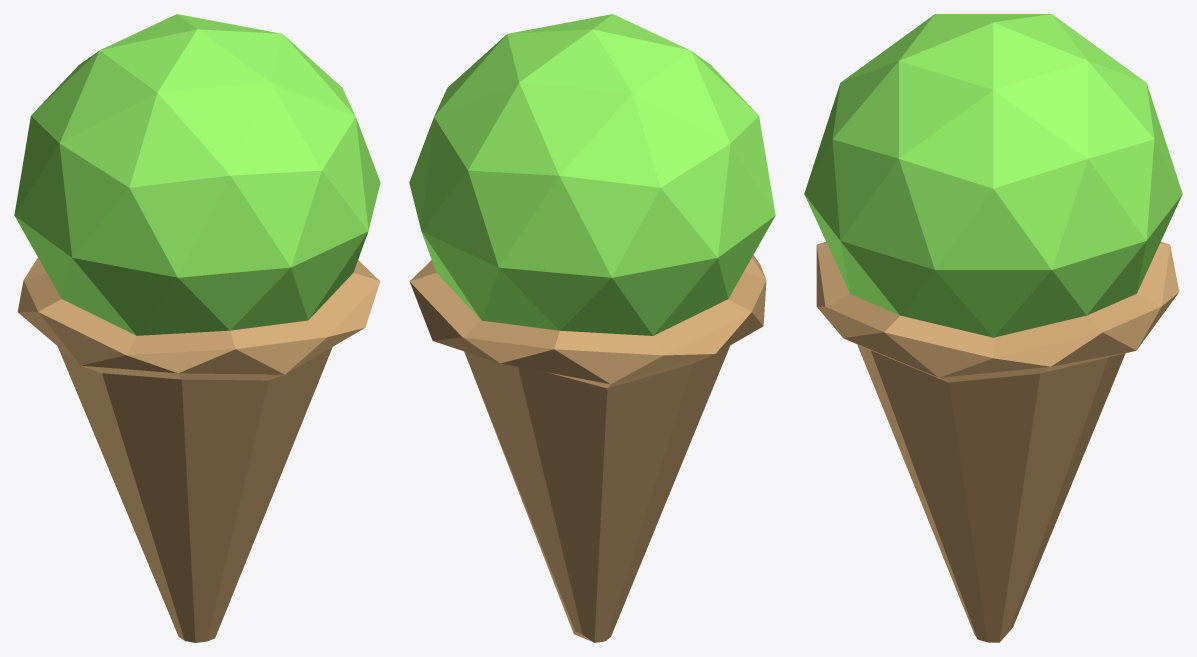
File: ice_melon.fbx
3 views of the same model, side by side, from view 1: azimuth 30°, elevation 25°; view 2: azimuth 150°, elevation 25°; view 3: azimuth 270°, elevation 25° (orthographic).
Parts seen in each view (by area): view 1: ice_melon; view 2: ice_melon; view 3: ice_melon.
Boxes of the visible parts, <box> form: ice_melon: <box>14,14,380,642</box>; ice_melon: <box>409,14,775,642</box>; ice_melon: <box>804,14,1182,642</box>.
Size of the model in its own units: 7.33 by 13.66 by 7.59.
